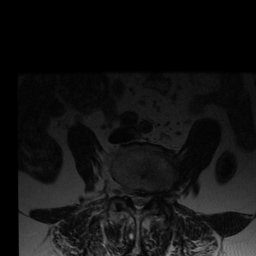CCS_stenosis: (135, 188, 143, 218)
LFS_severe_stenosis: (152, 186, 160, 204)
LLS_stenosis: (143, 190, 151, 210)
RFS_normal: (120, 180, 129, 204)
RLS_stenosis: (129, 189, 136, 211)
